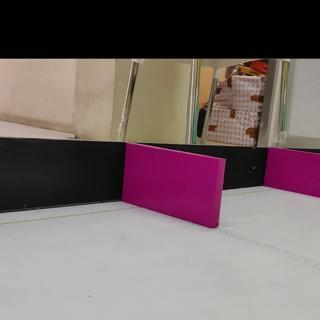xparking: (128, 156, 221, 220), (271, 155, 320, 195)
